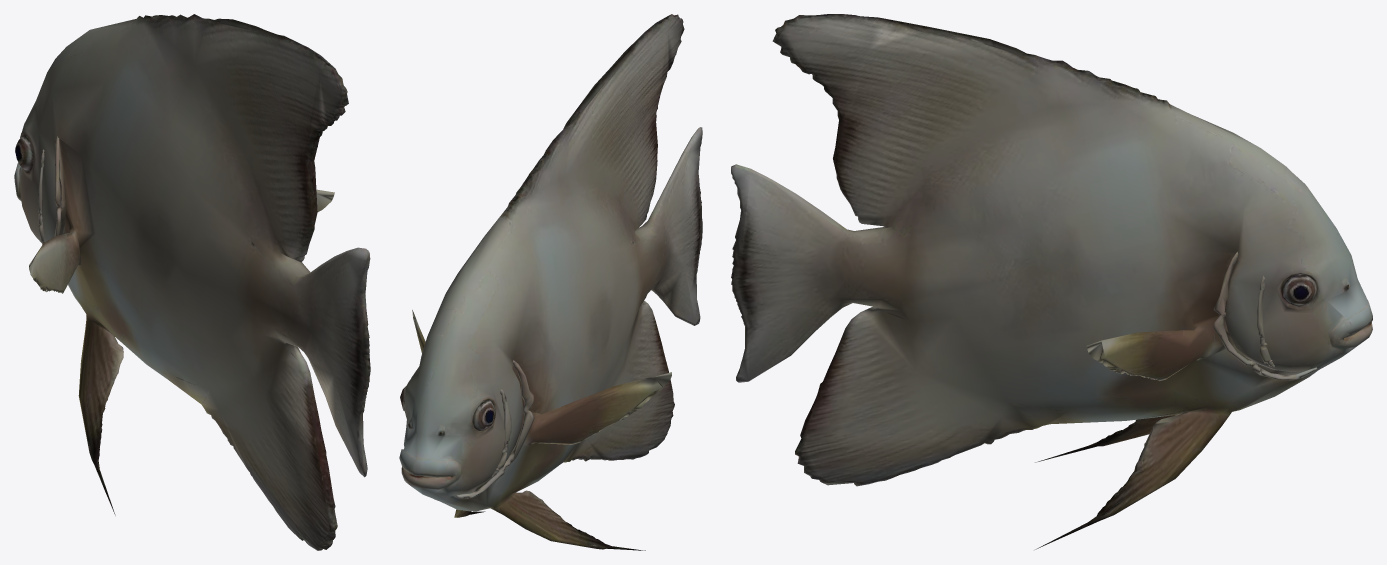
Rendered from batvis.glb.
3 renders of one model, left to right at view 1: azimuth 30°, elevation 25°; view 2: azimuth 150°, elevation 25°; view 3: azimuth 270°, elevation 25°, orthographic. The views are drawn at different scales.
Parts seen in each view (by area): view 1: tripo_node_885b0633-f7cc-4555-8719-edf870dd76ba; view 2: tripo_node_885b0633-f7cc-4555-8719-edf870dd76ba; view 3: tripo_node_885b0633-f7cc-4555-8719-edf870dd76ba.
Boxes of the visible parts, box(x1,y1,x2,y2) form: tripo_node_885b0633-f7cc-4555-8719-edf870dd76ba: box(14, 14, 370, 550); tripo_node_885b0633-f7cc-4555-8719-edf870dd76ba: box(399, 14, 702, 550); tripo_node_885b0633-f7cc-4555-8719-edf870dd76ba: box(731, 14, 1372, 549).
Size of the model in its own units: 0.1233 by 0.2 by 0.236.
1 material, 1 textured.
